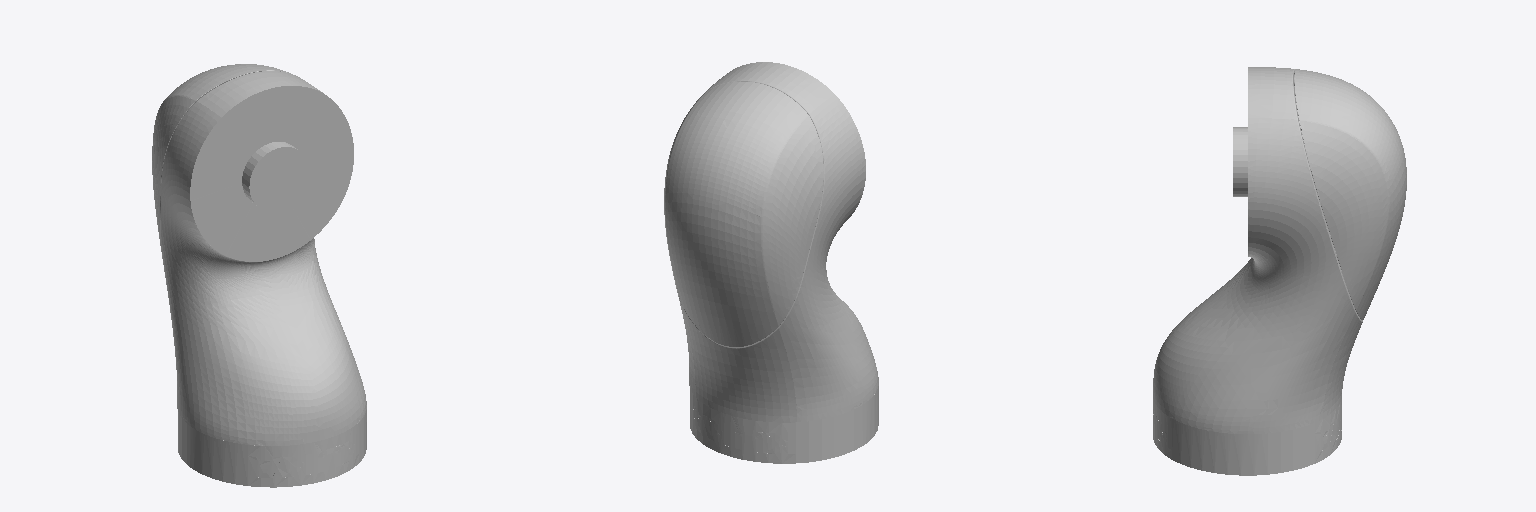
3 views of the same model, side by side, from view 1: azimuth 30°, elevation 25°; view 2: azimuth 150°, elevation 25°; view 3: azimuth 270°, elevation 25° (orthographic).
Parts seen in each view (by area): view 1: /ambf/env/Link4; view 2: /ambf/env/Link4; view 3: /ambf/env/Link4.
Boxes of the visible parts, box(x1,y1,x2,y2) form: /ambf/env/Link4: box(152, 64, 366, 487); /ambf/env/Link4: box(664, 62, 878, 463); /ambf/env/Link4: box(1153, 67, 1406, 475).
Bounding box in the file's own units: 0.1385 × 0.2901 × 0.186.